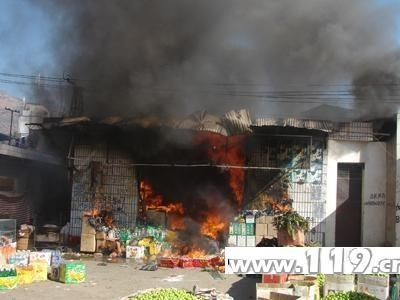fire: (137, 180, 230, 261), (0, 226, 51, 289), (268, 193, 291, 212), (82, 205, 106, 219)
